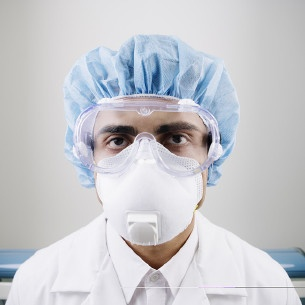Mask: (89, 114, 221, 246)
